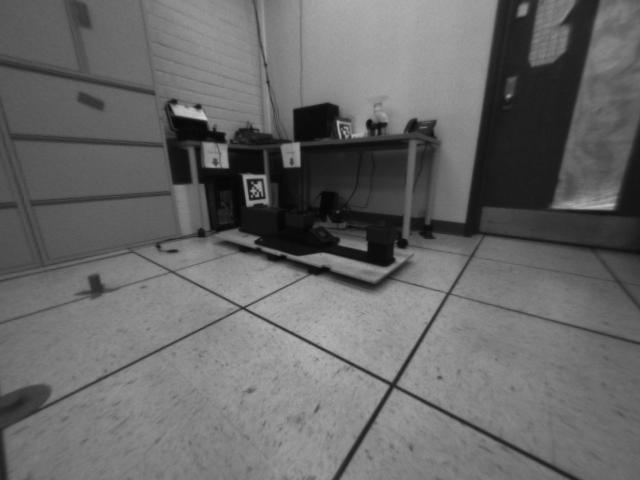X: (75, 273, 120, 300)
